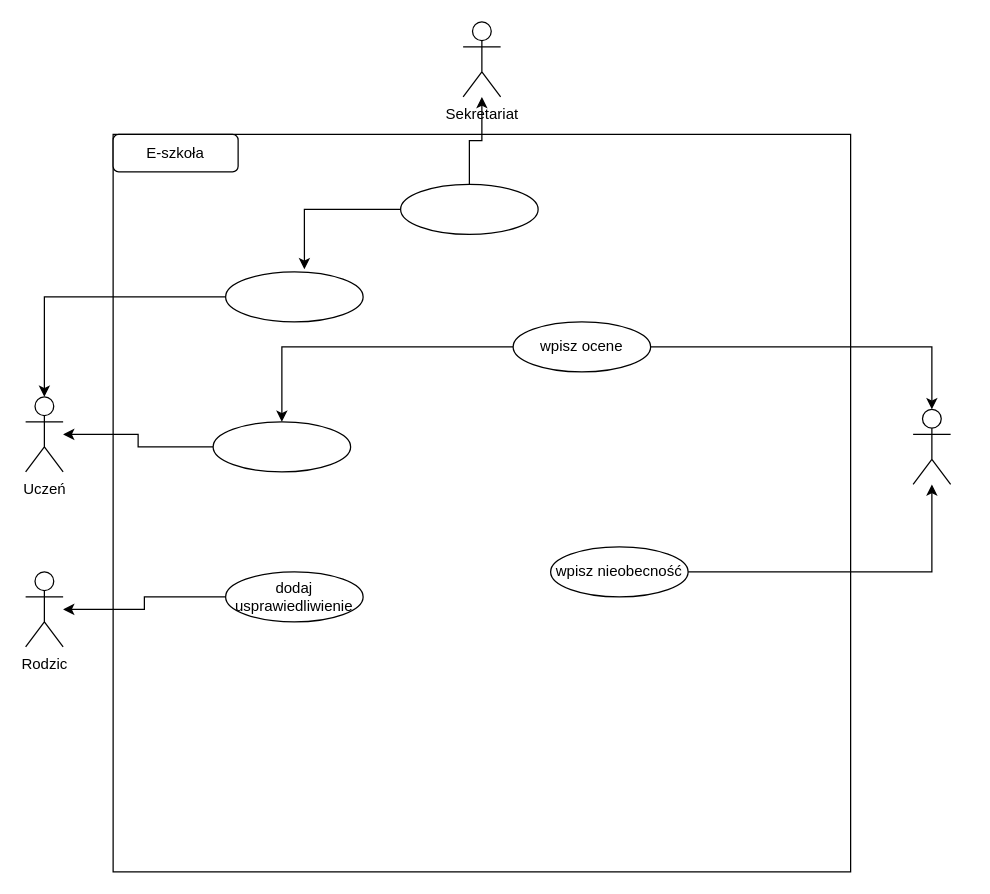
Image size: 990x894. Some labels were removed from this diagram. The shapes that lost their labels are listed below. From the top down, each one's box as (x1, y1, x2, y2) in pixels, then its label:
(399, 183, 538, 234): Zmień plan lekcji
(224, 271, 363, 322): Sprawdź plan lekcji
(212, 421, 351, 472): Sprawdź oceny
(912, 408, 951, 484): Nauczyciel
